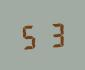five: (19, 21, 41, 50)
three: (42, 20, 64, 48)
